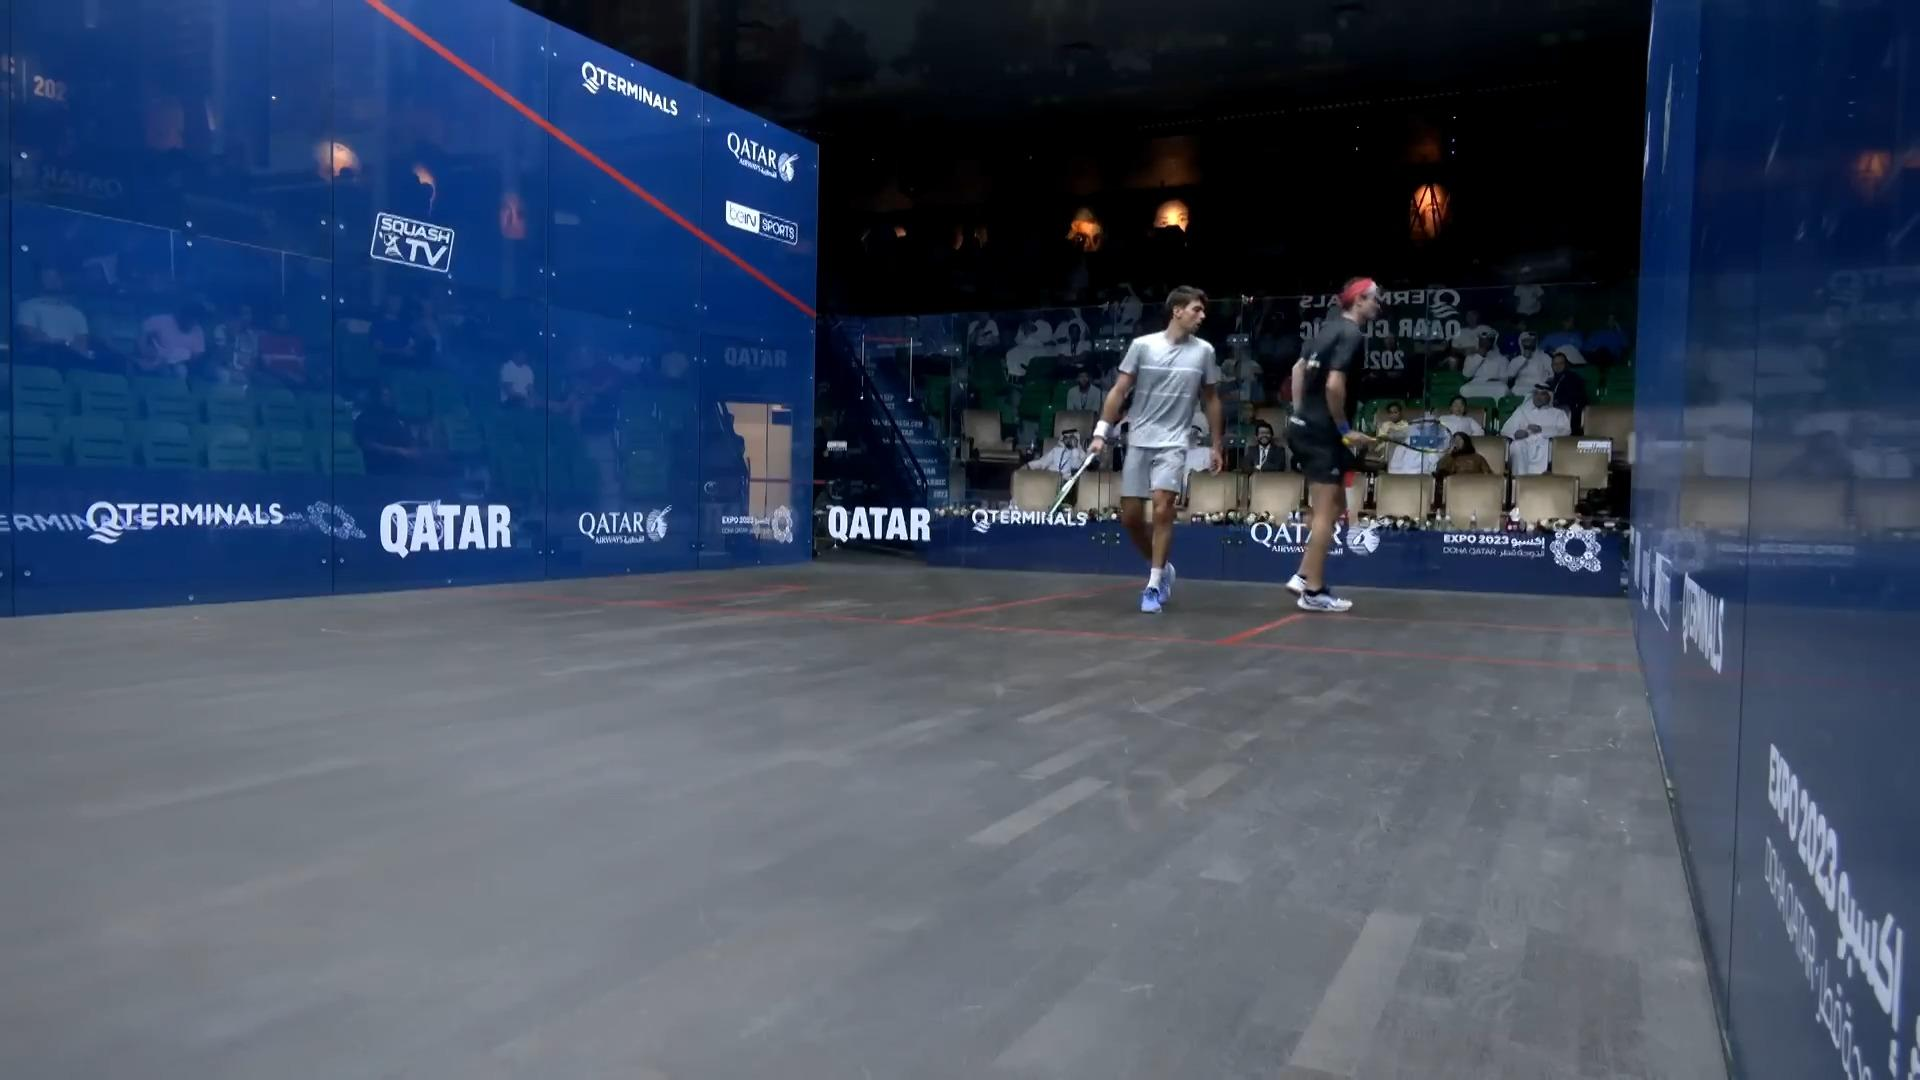Racket: (1373, 415, 1458, 469)
